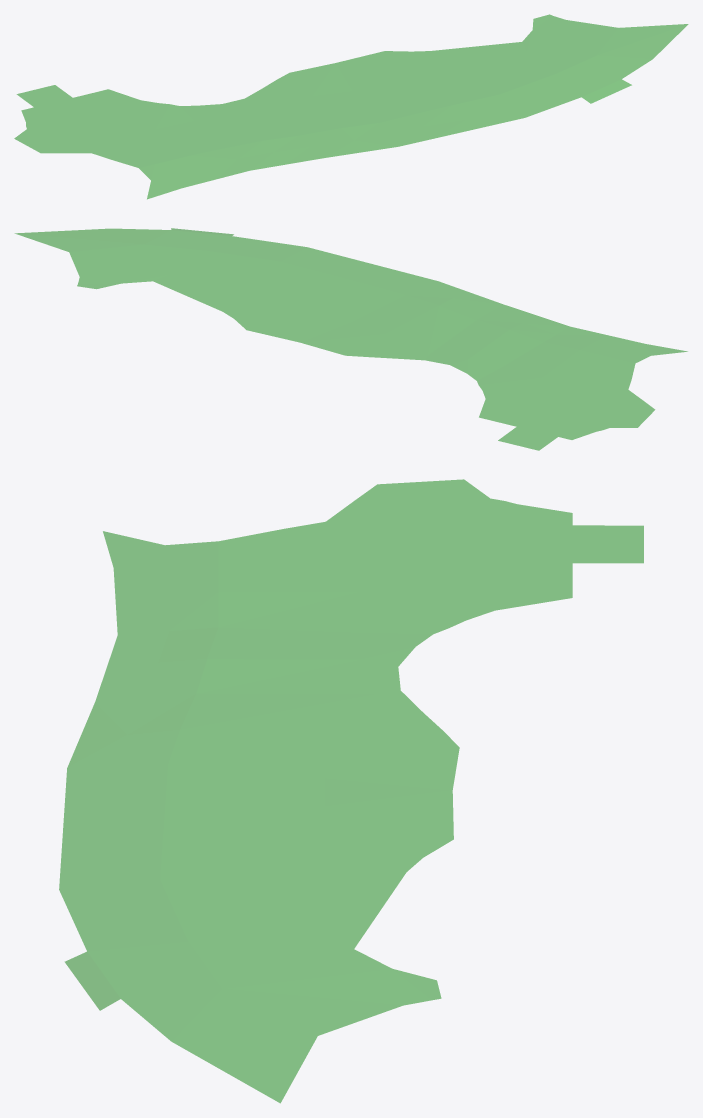
File: stg161_B_sand.obj
3 renders of one model, top to bottom at view 1: azimuth 30°, elevation 25°; view 2: azimuth 150°, elevation 25°; view 3: azimuth 270°, elevation 25°, orthographic. The views are drawn at different scales.
Bounding box in the file's own units: 129 × 1.66 × 52.07.
